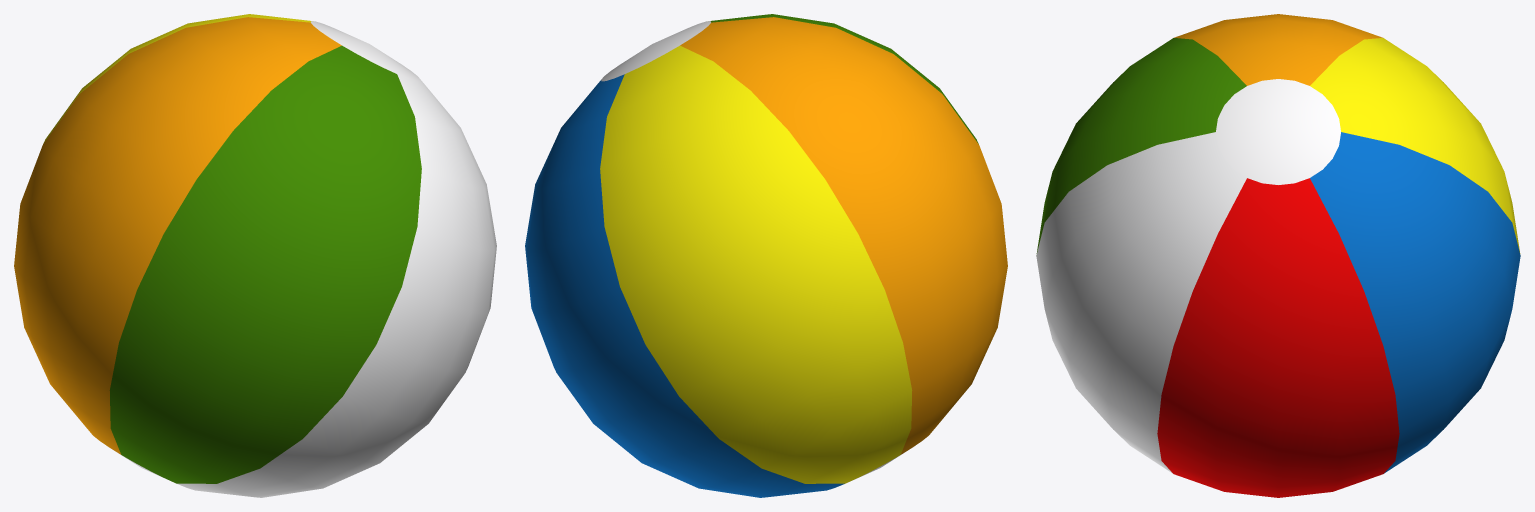
Rendered from Beachball.glb.
3 renders of one model, left to right at view 1: azimuth 30°, elevation 25°; view 2: azimuth 150°, elevation 25°; view 3: azimuth 270°, elevation 25°, orthographic.
Parts seen in each view (by area): view 1: Beachball; view 2: Beachball; view 3: Beachball.
Part boxes in pixels (<box>): Beachball: <box>14,14,496,497</box>; Beachball: <box>525,14,1007,497</box>; Beachball: <box>1036,14,1520,497</box>.
Size of what is drawn, in the model's own units: 0.3995 by 0.3995 by 0.4.
1 material, 1 textured.
